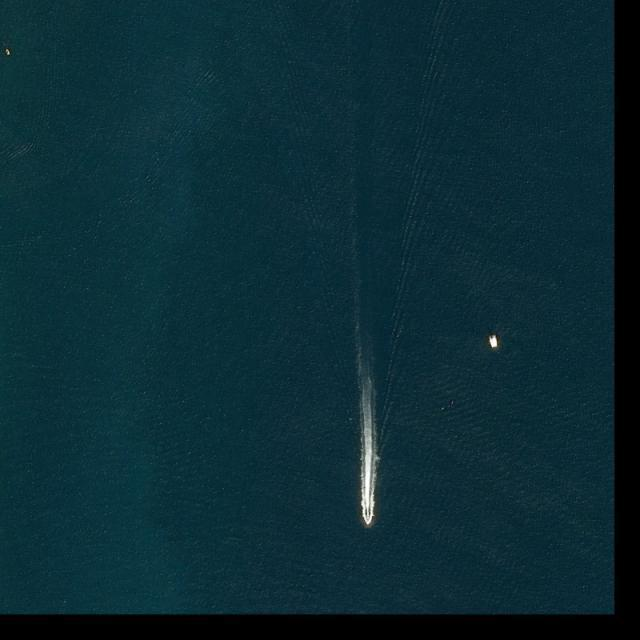ship: (489, 334, 498, 348), (366, 515, 370, 526), (6, 49, 10, 55)
